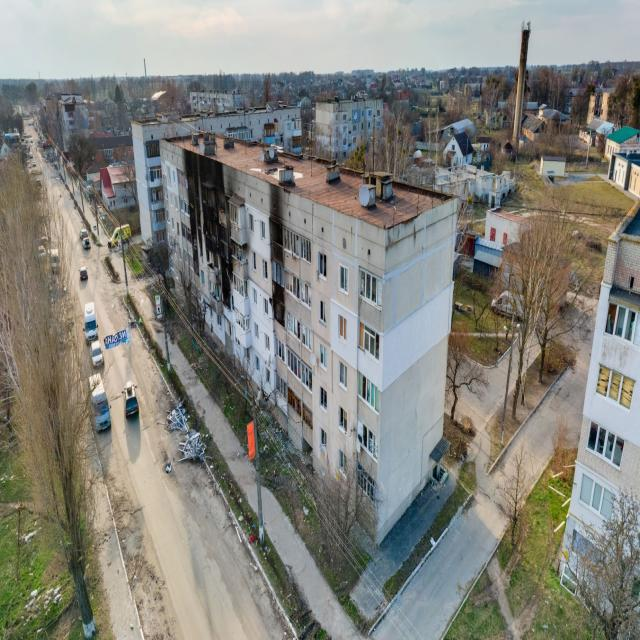building: (155, 127, 460, 547), (558, 197, 640, 621), (313, 95, 384, 163)
roof: (162, 129, 456, 231)
